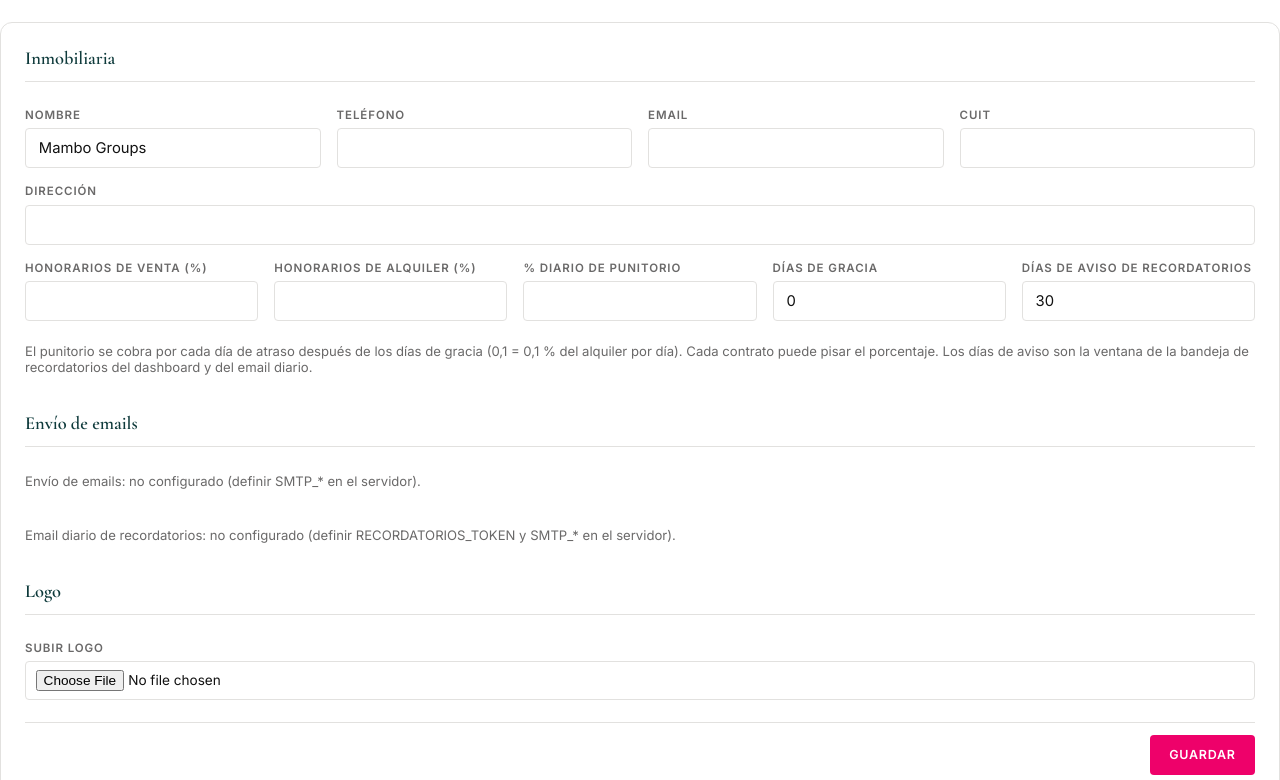
Test: muestra el error del backend si no se puede guardar
(page scrolled)
Expected: the field showing "Mambo Groups" is shown, [25, 128, 320, 168]
Click the button "Guardar": (1202, 755) [1150, 735, 1255, 775]
(page scrolled)
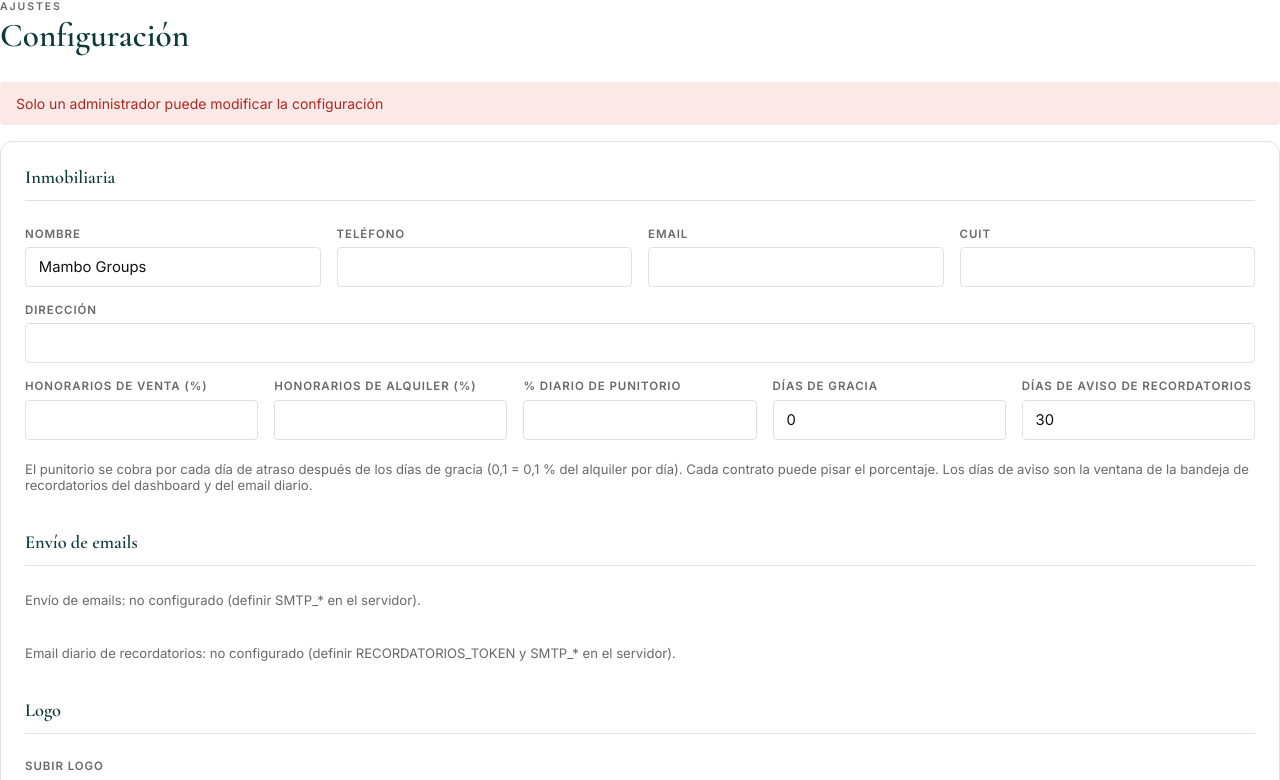
Expected: the message shows "Solo un administrador", [16, 95, 383, 112]
